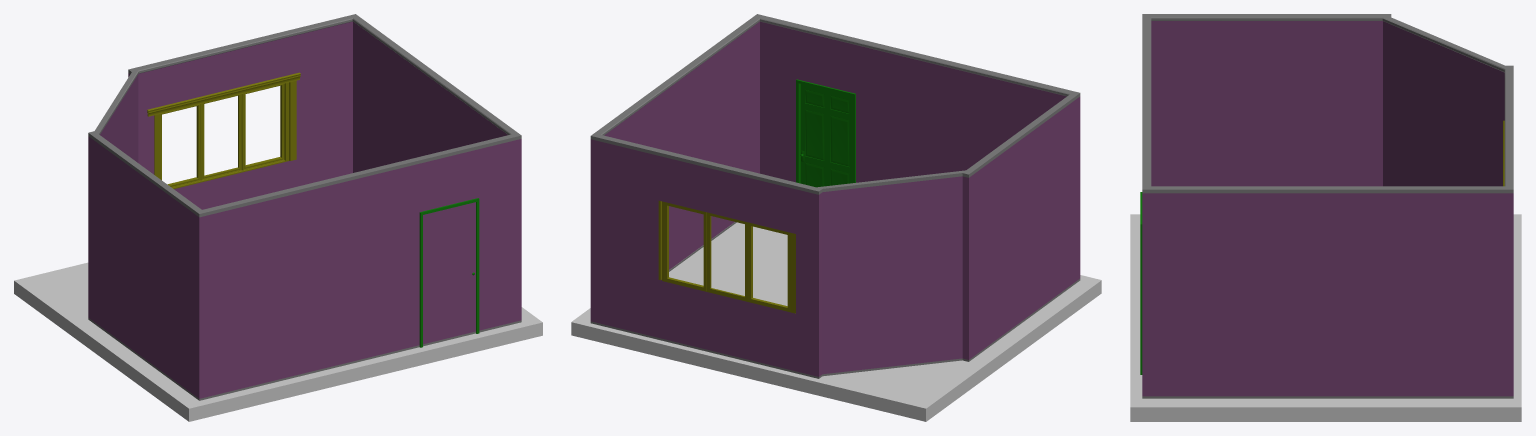
Rendered from FloorPlan222.fbx.
The picture shows the model from 3 angles, left to right: view 1: azimuth 30°, elevation 25°; view 2: azimuth 150°, elevation 25°; view 3: azimuth 270°, elevation 25°; orthographic projection. The views are drawn at different scales.
Visible parts, largest first — view 1: StandardWallSize, Floor, StandardWindow1, WindowTreatment1, StandardDoorFrame1, WindowTreatment2; view 2: StandardWallSize, Floor, StandardDoor1, StandardWindow1, StandardDoorFrame1, WindowTreatment1; view 3: StandardWallSize, Floor, StandardDoorFrame1.
Boxes of the visible parts, x1=… form: StandardWallSize: x1=88, y1=14, x2=521, y2=400; Floor: x1=14, y1=262, x2=542, y2=421; StandardWindow1: x1=160, y1=83, x2=284, y2=187; WindowTreatment1: x1=147, y1=72, x2=300, y2=179; StandardDoorFrame1: x1=419, y1=198, x2=479, y2=347; WindowTreatment2: x1=172, y1=82, x2=289, y2=188; StandardWallSize: x1=590, y1=14, x2=1080, y2=378; Floor: x1=571, y1=222, x2=1101, y2=421; StandardDoor1: x1=800, y1=84, x2=852, y2=187; StandardWindow1: x1=664, y1=202, x2=790, y2=311; StandardDoorFrame1: x1=796, y1=79, x2=855, y2=183; WindowTreatment1: x1=658, y1=200, x2=795, y2=313; StandardWallSize: x1=1142, y1=14, x2=1513, y2=398; Floor: x1=1130, y1=214, x2=1521, y2=421; StandardDoorFrame1: x1=1140, y1=192, x2=1142, y2=374.
Bounding box in the file's own units: 560 × 302 × 480.
